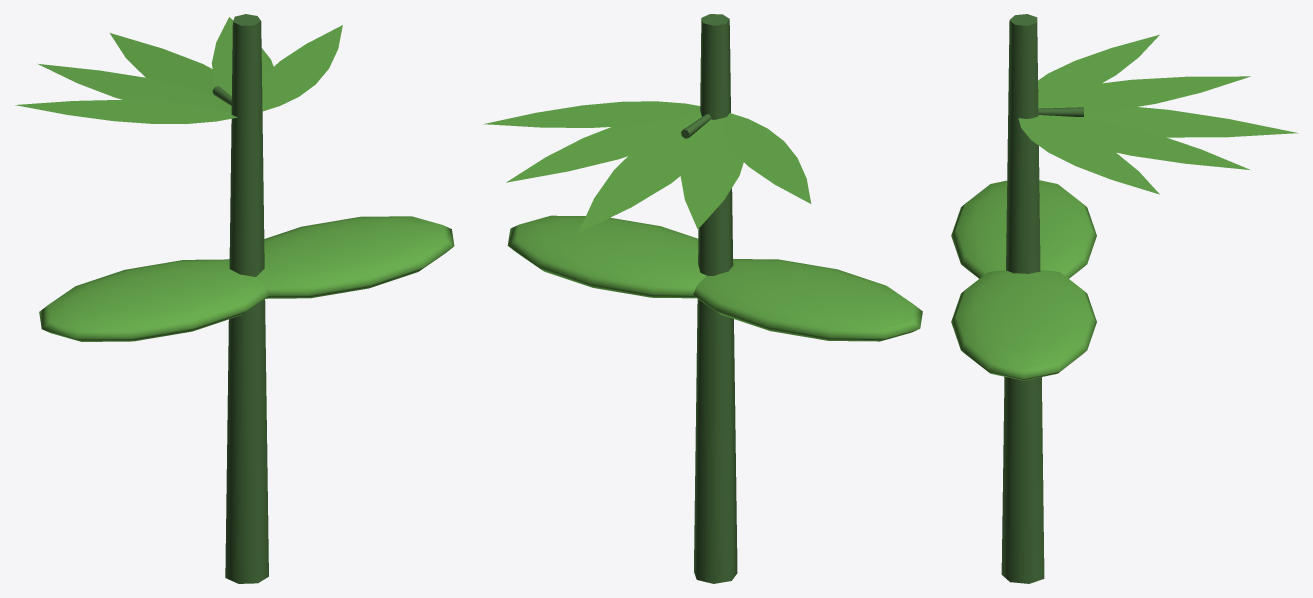
Rendered from plant-seedling.glb.
3 views of the same model, side by side, from view 1: azimuth 30°, elevation 25°; view 2: azimuth 150°, elevation 25°; view 3: azimuth 270°, elevation 25° (orthographic).
Visible parts, largest first — view 1: Cannabis_seedling, Branch, LeafBlade (×5); view 2: Cannabis_seedling, LeafBlade (×5), Branch; view 3: Cannabis_seedling, LeafBlade (×5), Branch.
Boxes of the visible parts, x1=… form: Cannabis_seedling: x1=39, y1=216, x2=454, y2=341; Branch: x1=225, y1=14, x2=268, y2=583; LeafBlade (×5): x1=15, y1=17, x2=342, y2=123; Cannabis_seedling: x1=507, y1=215, x2=922, y2=341; LeafBlade (×5): x1=483, y1=101, x2=811, y2=233; Branch: x1=694, y1=14, x2=737, y2=583; Cannabis_seedling: x1=951, y1=180, x2=1096, y2=380; LeafBlade (×5): x1=1018, y1=34, x2=1298, y2=194; Branch: x1=1001, y1=14, x2=1044, y2=583.
Bounding box in the file's own units: 0.232 × 0.3 × 0.1704.
